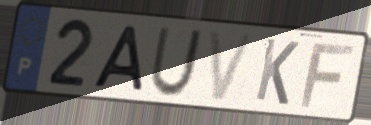2: (46, 16, 96, 94)
A: (89, 24, 147, 95)
F: (297, 41, 358, 110)
K: (252, 35, 302, 108)
U: (147, 25, 206, 100)
V: (207, 28, 257, 103)
